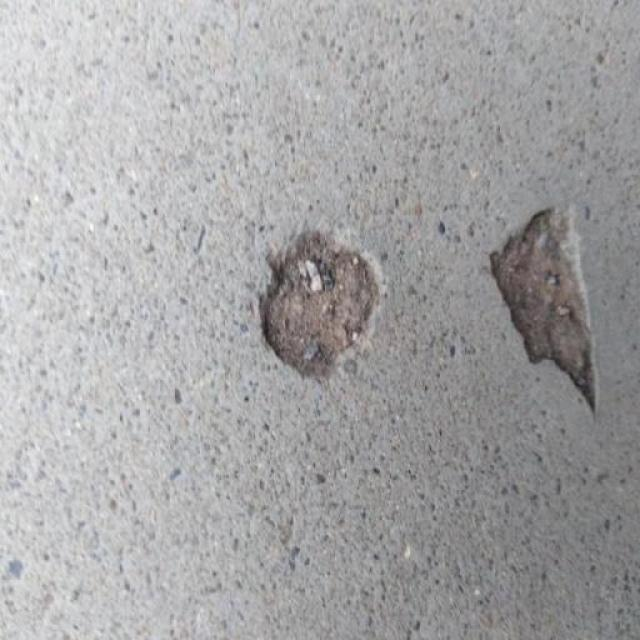D10: (489, 208, 598, 412), (255, 232, 382, 384)
